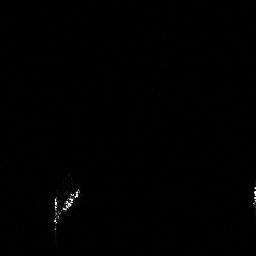ship: (47, 184, 83, 234)
